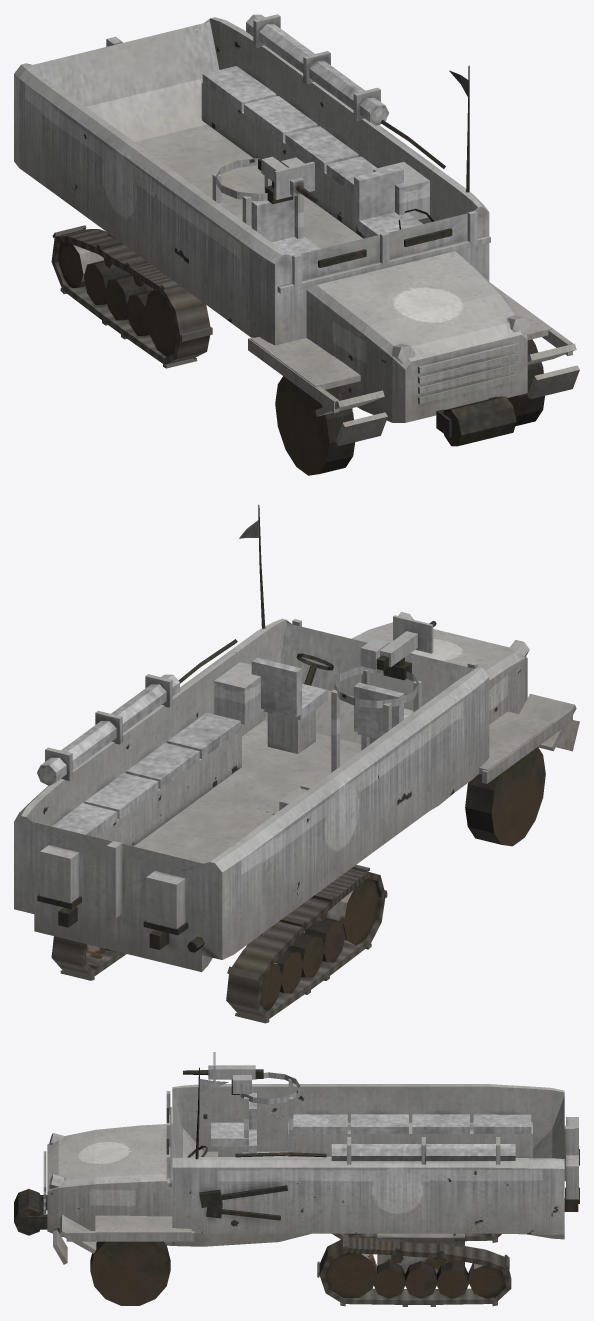
File: halftrack.glb
The picture shows the model from 3 angles, top to bottom: view 1: azimuth 30°, elevation 25°; view 2: azimuth 150°, elevation 25°; view 3: azimuth 270°, elevation 25°; orthographic projection. The views are drawn at different scales.
Visible parts, largest first — view 1: halftrack_LOD0; view 2: halftrack_LOD0; view 3: halftrack_LOD0.
Part boxes in pixels (box(x1,y1,x2,y2)): halftrack_LOD0: box(14, 14, 579, 475); halftrack_LOD0: box(14, 504, 579, 1023); halftrack_LOD0: box(14, 1052, 579, 1306).
Size of what is drawn, in the model's own units: 2.34 by 3.02 by 6.47.
1 material, 1 textured.
